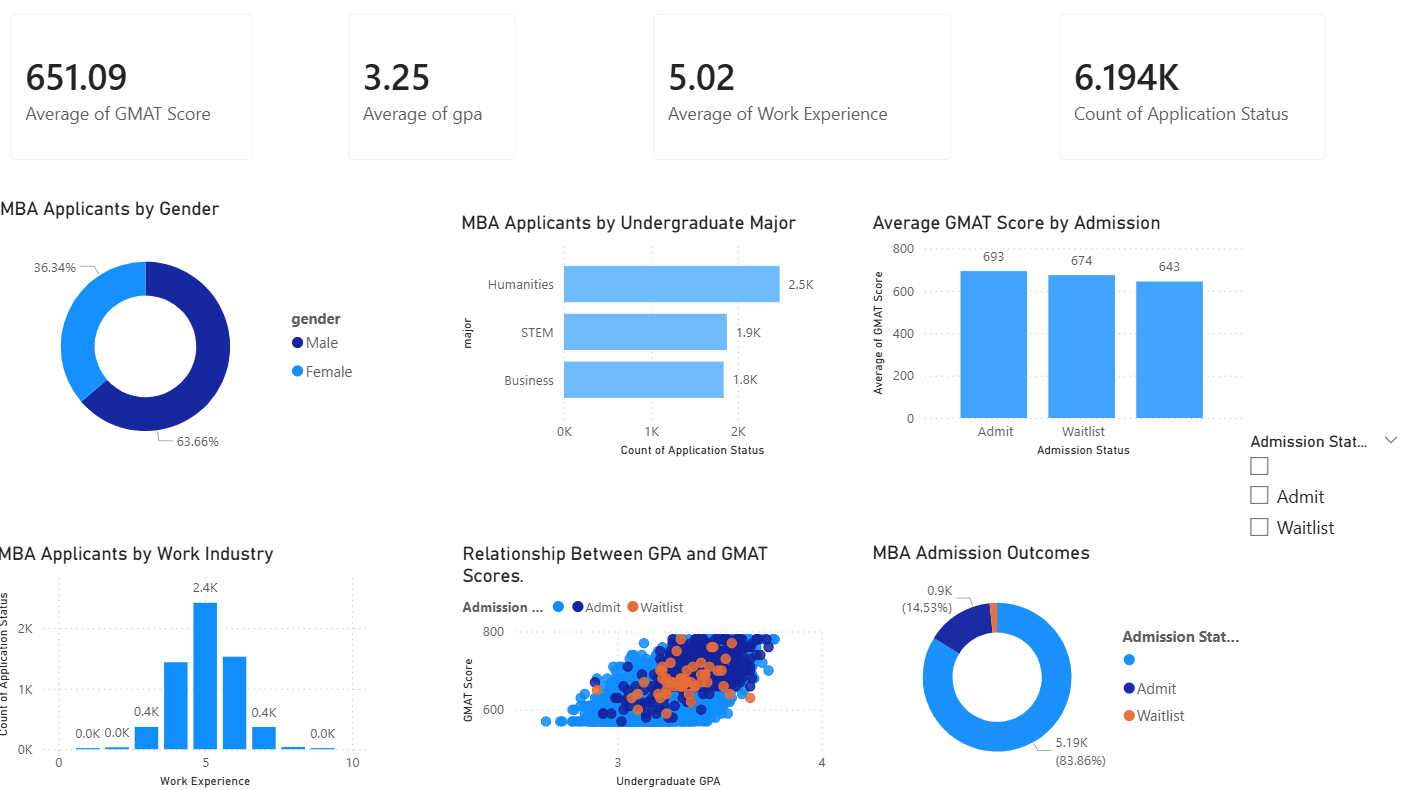

This screenshot's page, from the dashboard's own definition file:
{"tool":"powerbi","page":{"name":"Page 1","canvas":[1280,720],"ordinal":0},"visuals":[{"type":"cardVisual","fields":{"Data":["Avg(MBA.gmat)"]},"box":[0,0,252.5,166],"z":0},{"type":"cardVisual","fields":{"Data":["Avg(MBA.gpa)"]},"box":[304.6,0,185.2,166],"z":1},{"type":"cardVisual","fields":{"Data":["Avg(MBA.work_exp)"]},"box":[579.1,0,303.3,166],"z":2},{"type":"cardVisual","fields":{"Data":["Count(MBA.application_id)"]},"box":[945.5,0,274.4,166],"z":3},{"type":"donutChart","title":"MBA Applicants by Gender","fields":{"Category":["MBA.gender"],"Y":["Count(MBA.application_id)"]},"box":[2.7,182.5,337.6,249.7],"z":4},{"type":"clusteredBarChart","title":"MBA Applicants by Undergraduate Major","fields":{"Category":["MBA.major"],"Y":["Count(MBA.application_id)"]},"box":[418.5,194.9,341.7,226.4],"z":5},{"type":"clusteredColumnChart","title":"Average GMAT Score by Admission","fields":{"Y":["Avg(MBA.gmat)"],"Category":["MBA.admission"]},"box":[789,194.9,343.1,226.4],"z":6},{"type":"clusteredColumnChart","title":"MBA Applicants by Work Industry","fields":{"Category":["MBA.work_exp"],"Y":["Count(MBA.application_id)"]},"box":[0,494,343.1,226.4],"z":7},{"type":"scatterChart","title":"Relationship Between GPA and GMAT Scores.","fields":{"X":["Avg(MBA.gpa)"],"Y":["Avg(MBA.gmat)"],"Category":["MBA.application_id"],"Series":["MBA.admission"]},"box":[419,494,342,226],"z":8},{"type":"donutChart","title":"MBA Admission Outcomes","fields":{"Category":["MBA.admission"],"Y":["Count(MBA.application_id)"]},"box":[789,492.6,343.1,226.4],"z":9},{"type":"slicer","fields":{"Values":["MBA.Admission Status"]},"box":[1121.1,388.3,159.2,131.7],"z":10}]}

Visuals, with their boxes in screenshot pixels (x1, y1, x2, y2), scaled from the page's 1280x720 canvas onto the 1410x790 screenshot:
cardVisual - Avg(MBA.gmat): <bbox>0, 0, 278, 182</bbox>
cardVisual - Avg(MBA.gpa): <bbox>336, 0, 540, 182</bbox>
cardVisual - Avg(MBA.work_exp): <bbox>638, 0, 972, 182</bbox>
cardVisual - Count(MBA.application_id): <bbox>1042, 0, 1344, 182</bbox>
"MBA Applicants by Gender" donutChart: <bbox>3, 200, 375, 474</bbox>
"MBA Applicants by Undergraduate Major" clusteredBarChart: <bbox>461, 214, 837, 462</bbox>
"Average GMAT Score by Admission" clusteredColumnChart: <bbox>869, 214, 1247, 462</bbox>
"MBA Applicants by Work Industry" clusteredColumnChart: <bbox>0, 542, 378, 789</bbox>
"Relationship Between GPA and GMAT Scores." scatterChart: <bbox>462, 542, 838, 789</bbox>
"MBA Admission Outcomes" donutChart: <bbox>869, 540, 1247, 789</bbox>
slicer - MBA.Admission Status: <bbox>1235, 426, 1409, 571</bbox>
